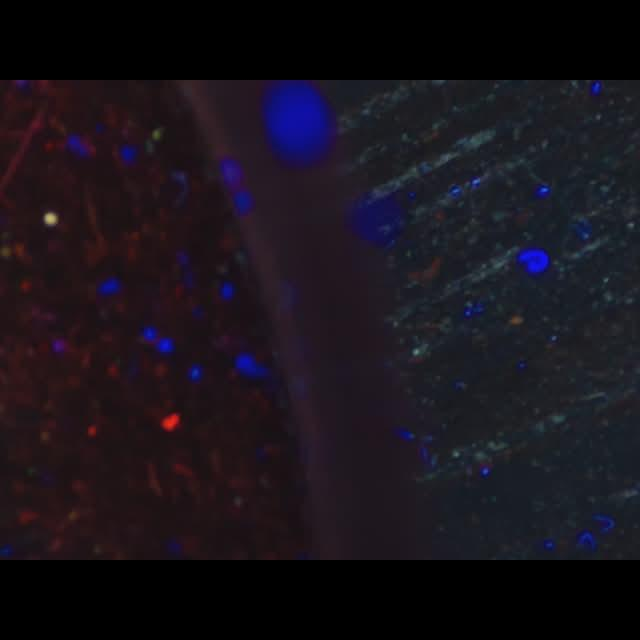microbeads: (42, 210, 58, 227)
